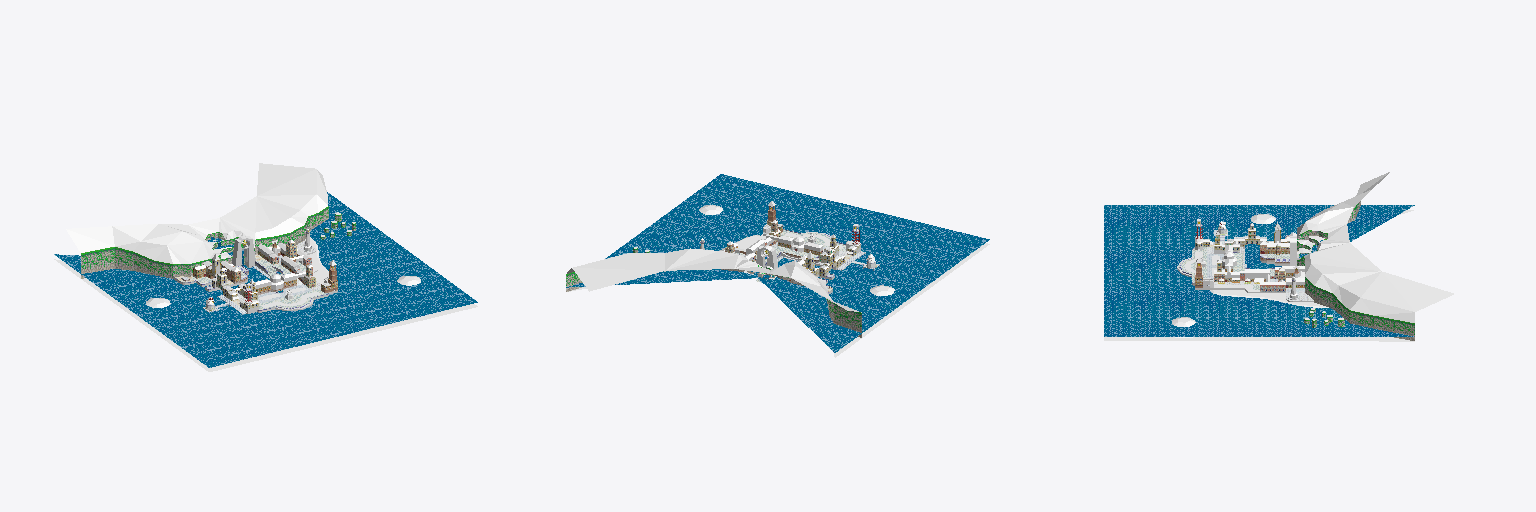
The picture shows the model from 3 angles: view 1: azimuth 30°, elevation 25°; view 2: azimuth 150°, elevation 25°; view 3: azimuth 270°, elevation 25°; orthographic projection.
Parts seen in each view (by area): view 1: polygon1; view 2: polygon1; view 3: polygon1.
Boxes of the visible parts, box(x1,y1,x2,y2) form: polygon1: box(54, 163, 477, 371); polygon1: box(566, 174, 989, 357); polygon1: box(1104, 172, 1453, 341).
Bounding box in the file's own units: 45.78 × 6.45 × 51.69.
Materials: 69 (25 with a texture image).